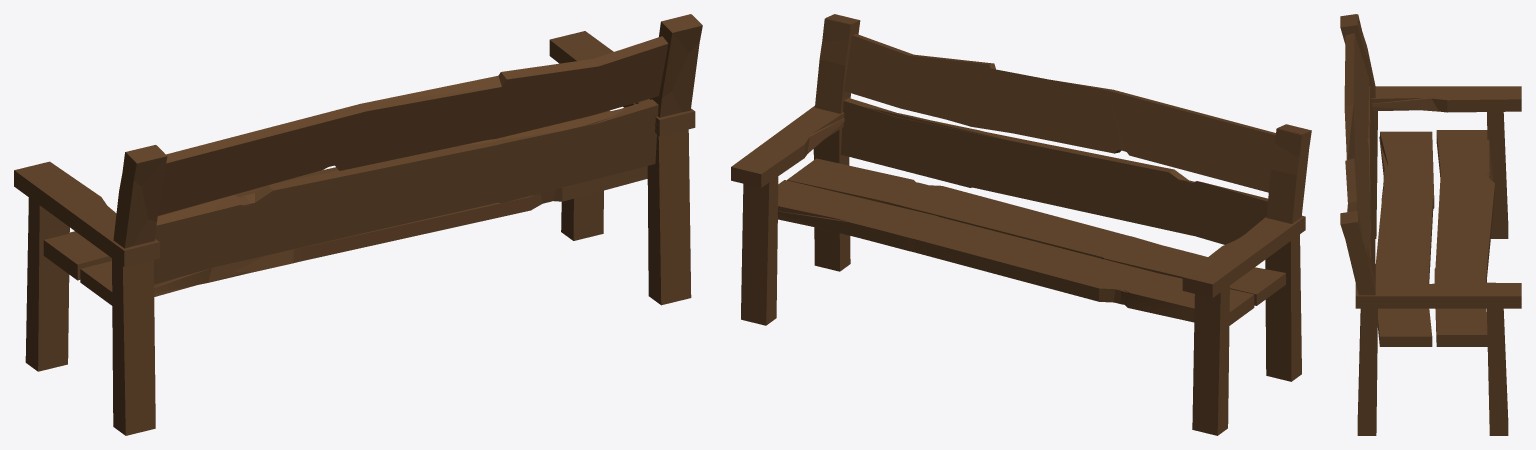
The model's file is Bench_1.fbx.
3 renders of one model, left to right at view 1: azimuth 30°, elevation 25°; view 2: azimuth 150°, elevation 25°; view 3: azimuth 270°, elevation 25°, orthographic. The views are drawn at different scales.
Visible parts, largest first — view 1: High_Bench_1, Low_Bench_1; view 2: High_Bench_1, Low_Bench_1; view 3: High_Bench_1, Low_Bench_1.
Boxes of the visible parts, <box> form: High_Bench_1: <box>14,14,702,435</box>; Low_Bench_1: <box>15,14,699,435</box>; High_Bench_1: <box>731,14,1311,435</box>; Low_Bench_1: <box>777,18,1308,304</box>; High_Bench_1: <box>1340,14,1521,435</box>; Low_Bench_1: <box>1340,14,1518,427</box>.
Bounding box in the file's own units: 66.5 × 31.59 × 24.24.
